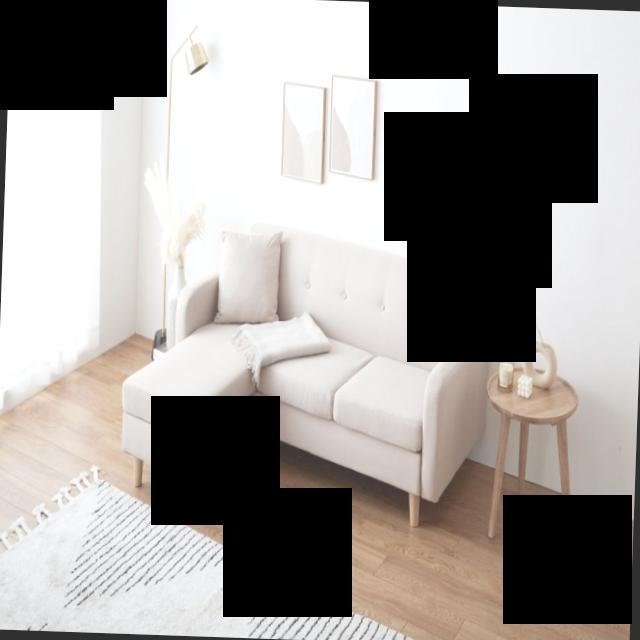natural desk: (483, 362, 583, 544)
natural sofa: (119, 212, 493, 534)
